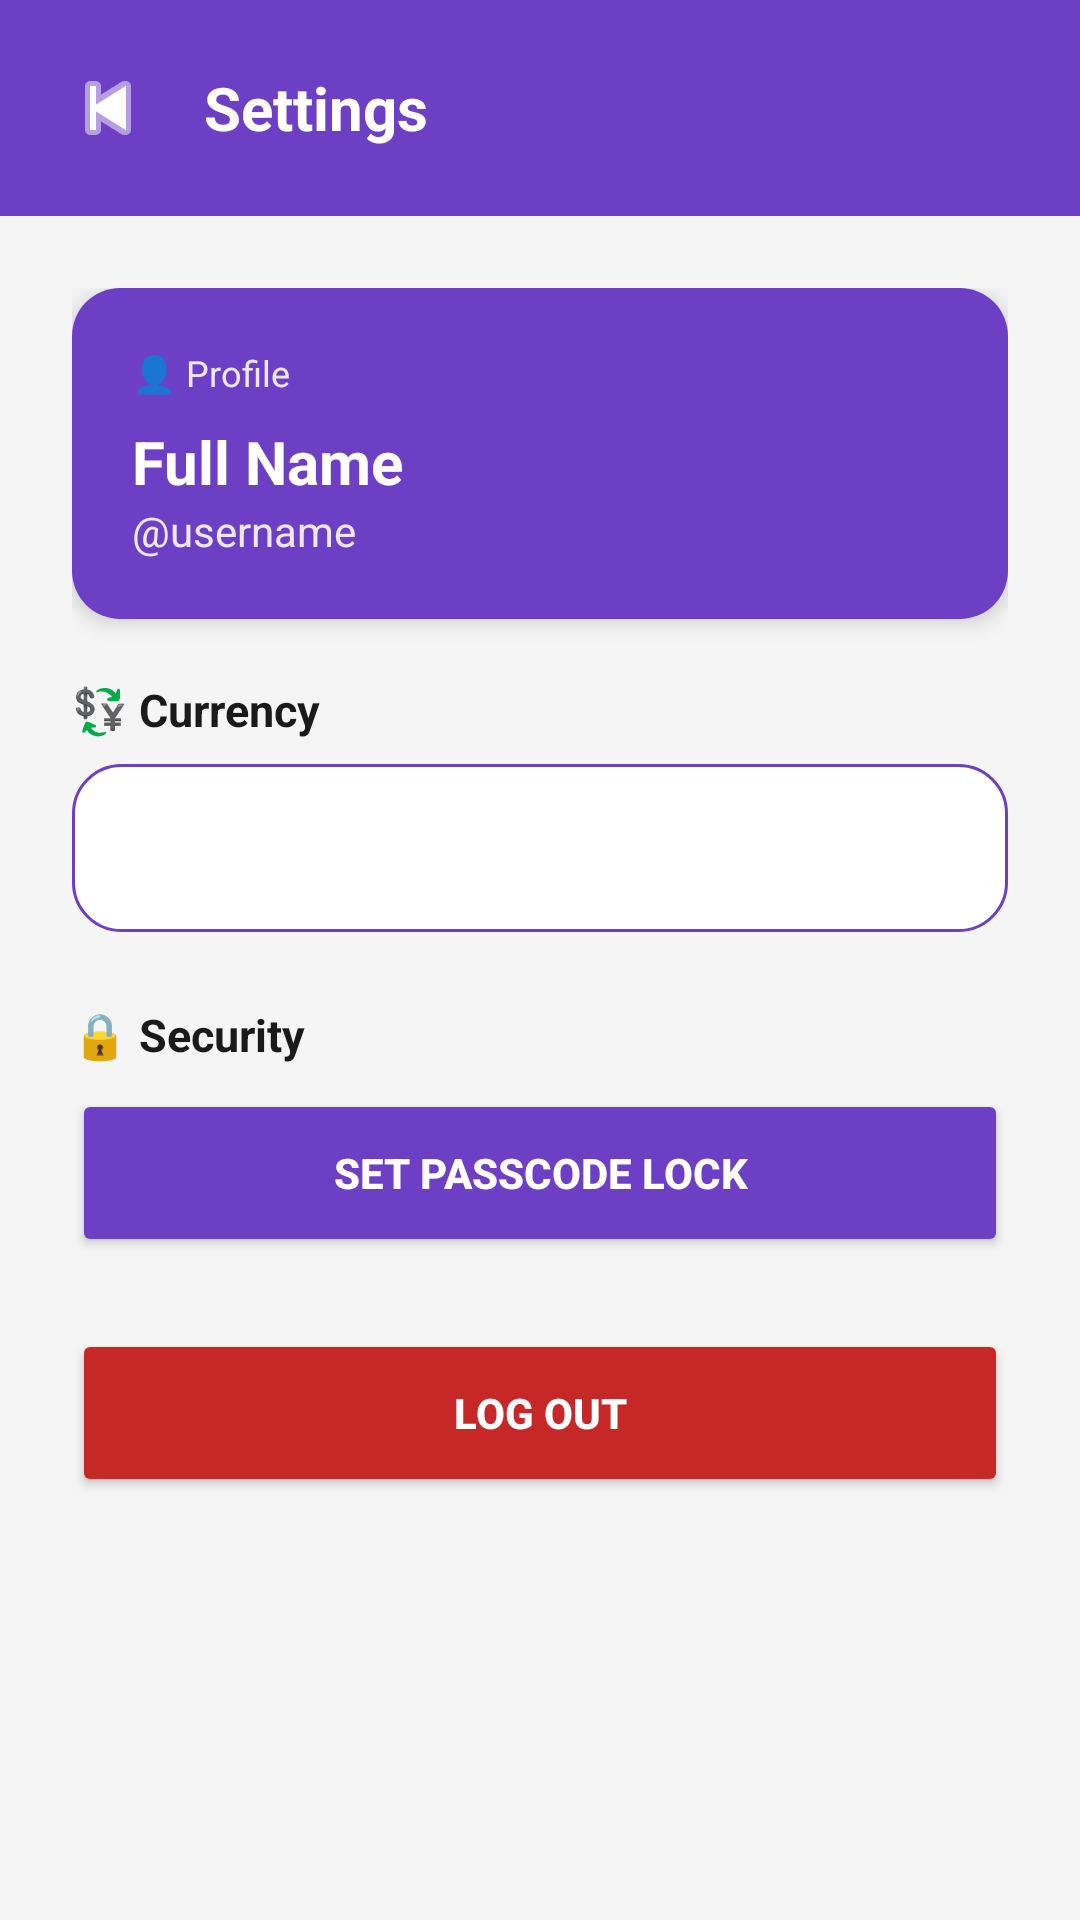

Icons on this 1080×1920 Android screen, each with its box as (x1, y1, x2, y2):
previous: (85, 81, 131, 135)
